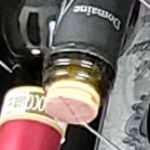bottle: (30, 31, 125, 135)
